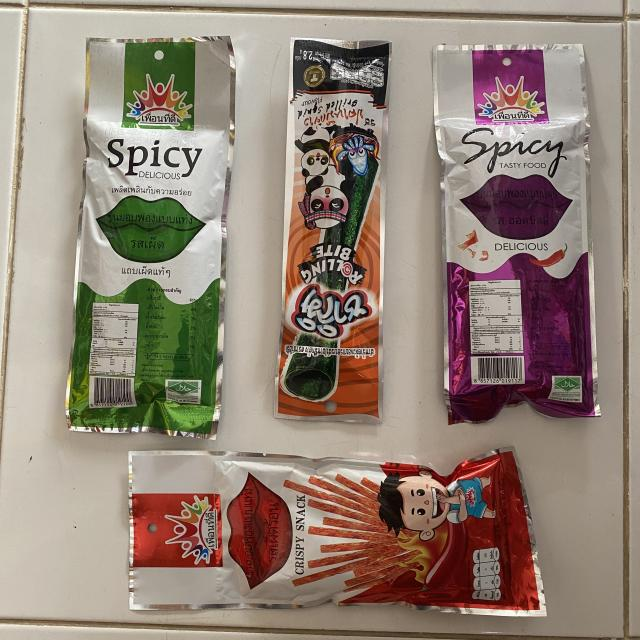plastik: (129, 448, 545, 616), (66, 36, 235, 439), (434, 45, 600, 422), (275, 39, 390, 422)
